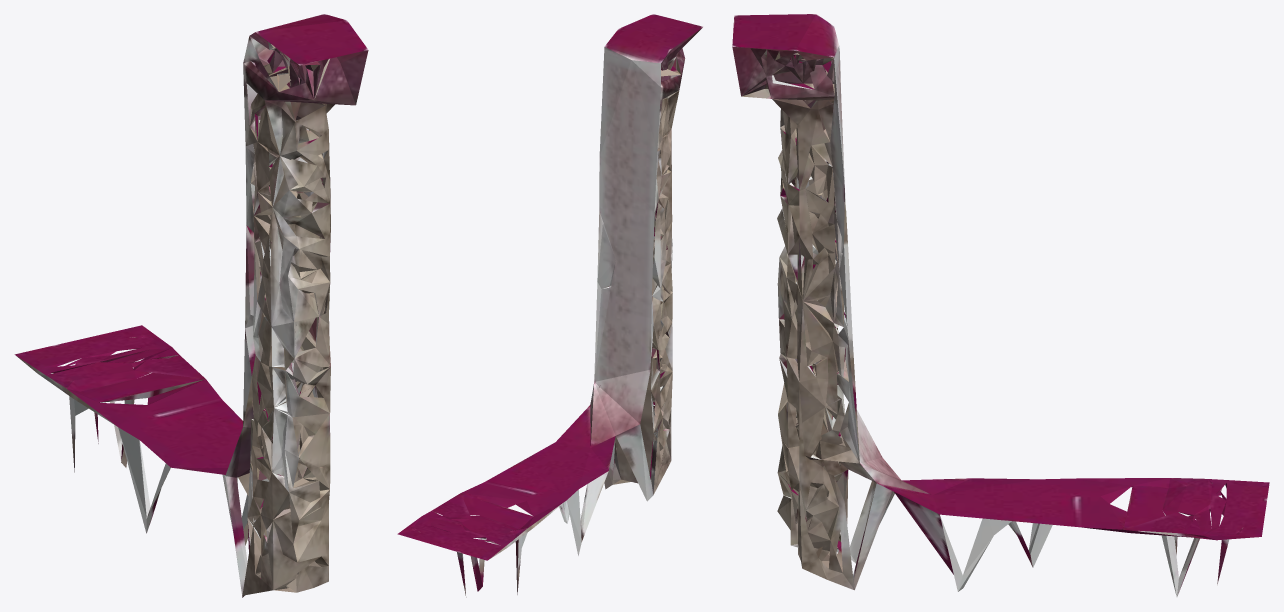
File: torre_cota.glb
The picture shows the model from 3 angles, left to right: view 1: azimuth 30°, elevation 25°; view 2: azimuth 150°, elevation 25°; view 3: azimuth 270°, elevation 25°; orthographic projection. The views are drawn at different scales.
Visible parts, largest first — view 1: tmpph74wt9s.ply; view 2: tmpph74wt9s.ply; view 3: tmpph74wt9s.ply.
Part boxes in pixels (x1,y1,x2,y2): tmpph74wt9s.ply: (14,14,368,597); tmpph74wt9s.ply: (397,14,703,597); tmpph74wt9s.ply: (732,14,1269,597).
Size of the model in its own units: 0.4482 by 2.01 by 1.76.
1 material, 1 textured.
